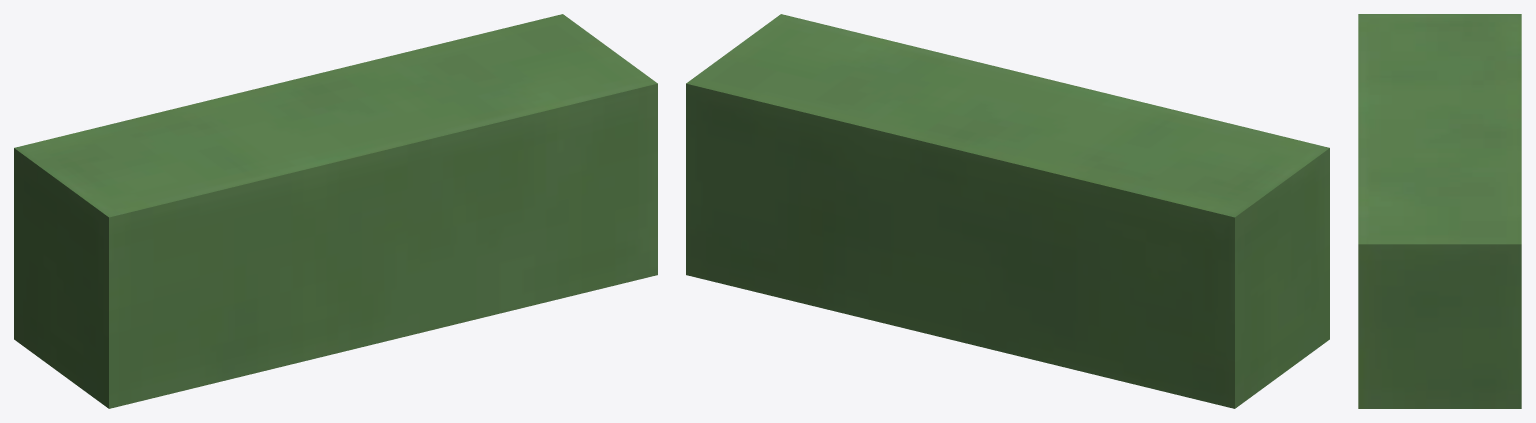
The model's file is life-plant-hedge.glb.
The picture shows the model from 3 angles, left to right: view 1: azimuth 30°, elevation 25°; view 2: azimuth 150°, elevation 25°; view 3: azimuth 270°, elevation 25°; orthographic projection. The views are drawn at different scales.
Parts seen in each view (by area): view 1: life-plant-hedge; view 2: life-plant-hedge; view 3: life-plant-hedge.
Boxes of the visible parts, left/top/right/bottom form: life-plant-hedge: left=14, top=14, right=657, bottom=408; life-plant-hedge: left=686, top=14, right=1329, bottom=408; life-plant-hedge: left=1358, top=14, right=1521, bottom=408.
Size of the model in its own units: 0.3 by 0.1 by 0.09.
Materials: 1 (1 with a texture image).
